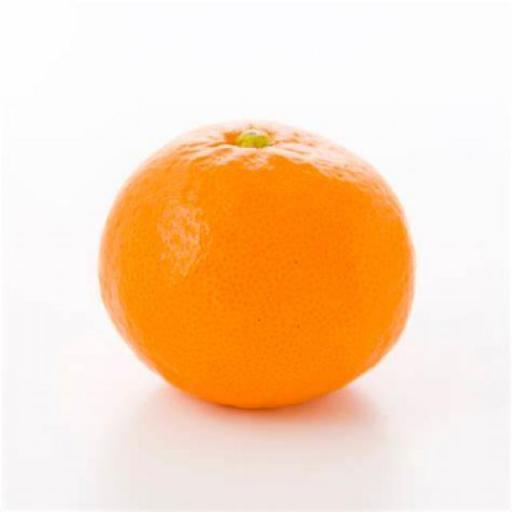fruit: (100, 123, 413, 407)
